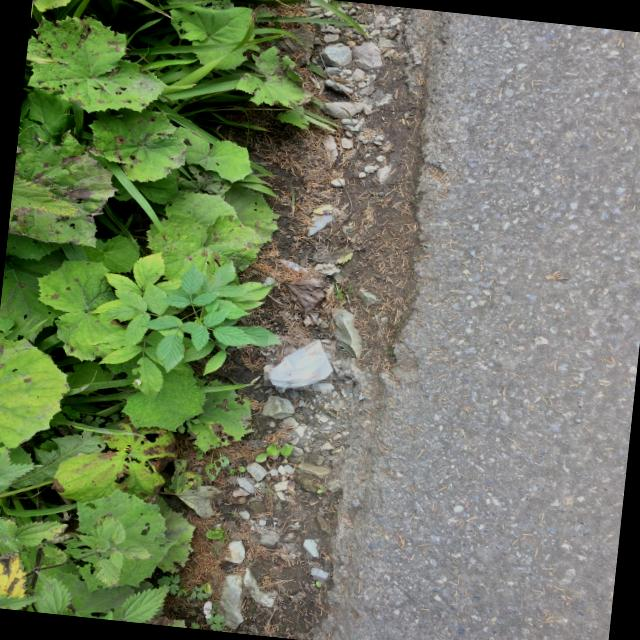Drink can: (264, 339, 333, 388)
